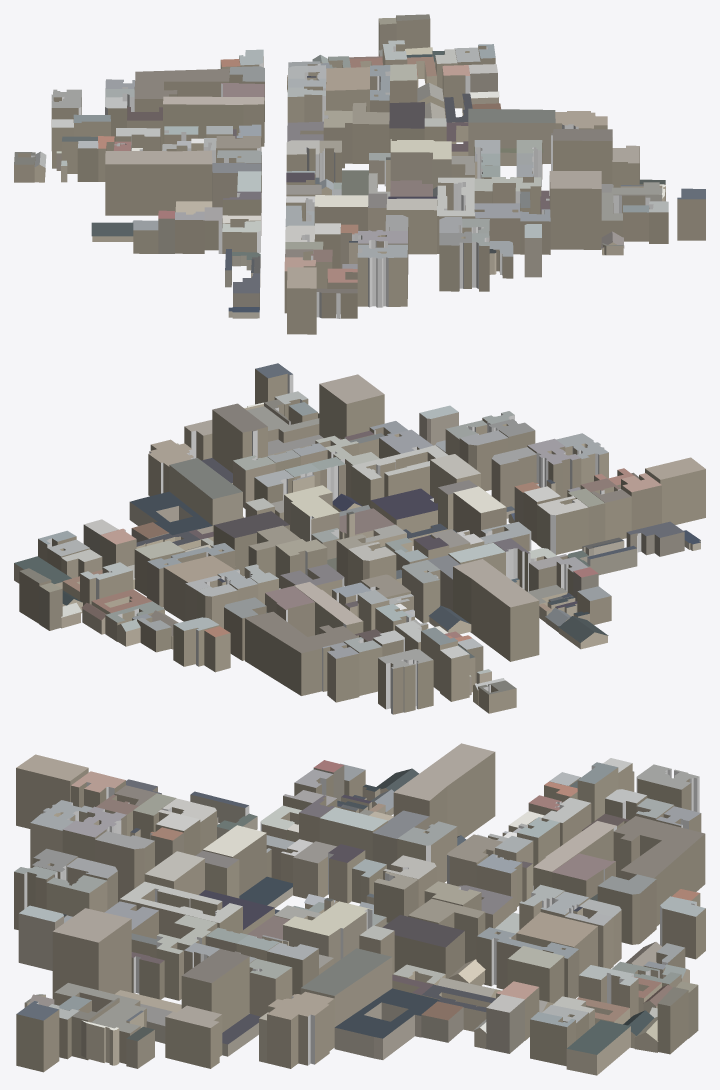
The picture shows the model from 3 angles, top to bottom: view 1: azimuth 30°, elevation 25°; view 2: azimuth 150°, elevation 25°; view 3: azimuth 270°, elevation 25°; orthographic projection. The views are drawn at different scales.
Parts seen in each view (by area): view 1: tuile; view 2: tuile; view 3: tuile.
Boxes of the visible parts, bbox=[...] form: tuile: bbox=[14, 14, 705, 334]; tuile: bbox=[14, 363, 705, 714]; tuile: bbox=[14, 743, 705, 1075].
Bounding box in the file's own units: 266 × 34.99 × 264.
